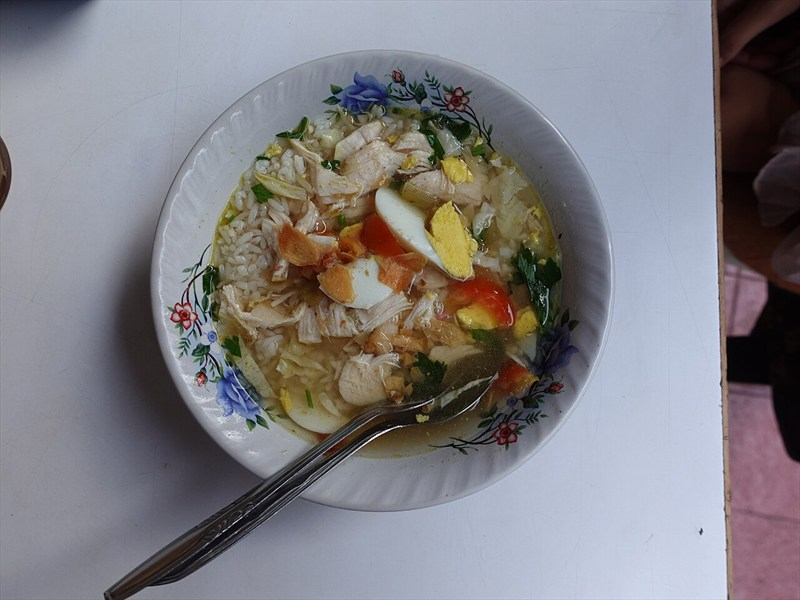Soto Ayam: (147, 74, 784, 501)
